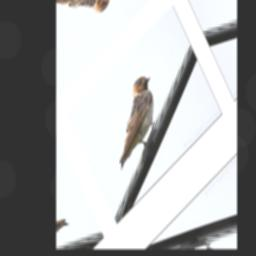Swallow: (96, 68, 171, 175)
